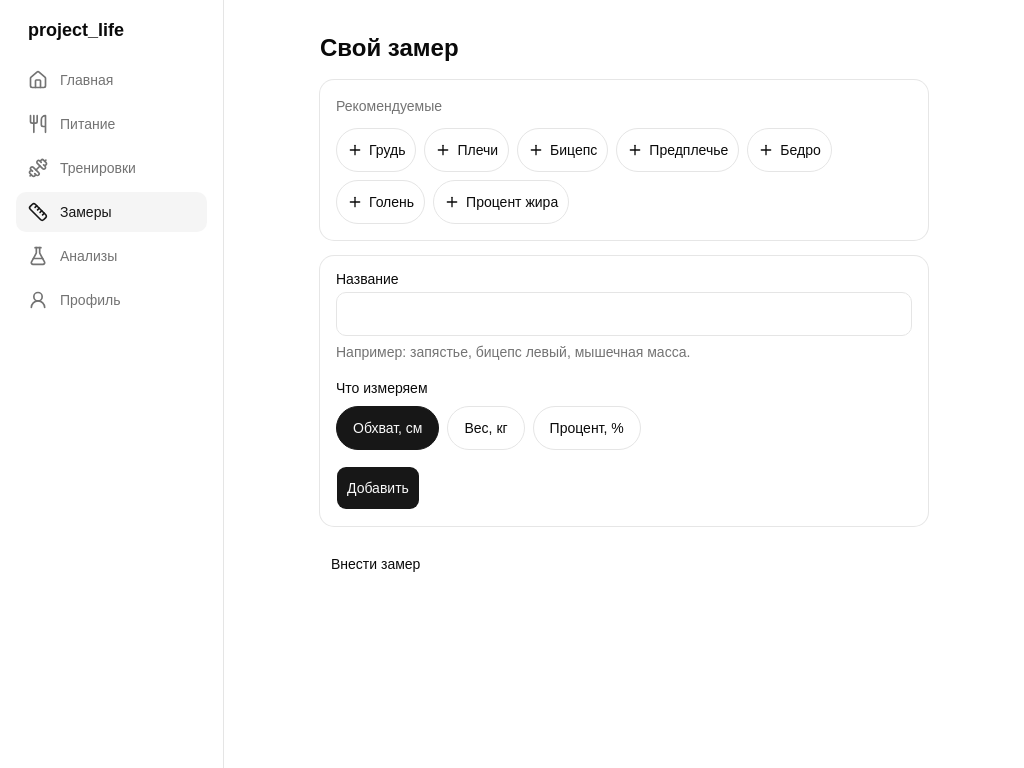
Test: экран «+»: рекомендуемые замеры › добавляет вид одним касанием и остаётся на экране
Click the button with aria-label "Добавить: Бицепс".
click(563, 150)  # box [517, 128, 608, 172]
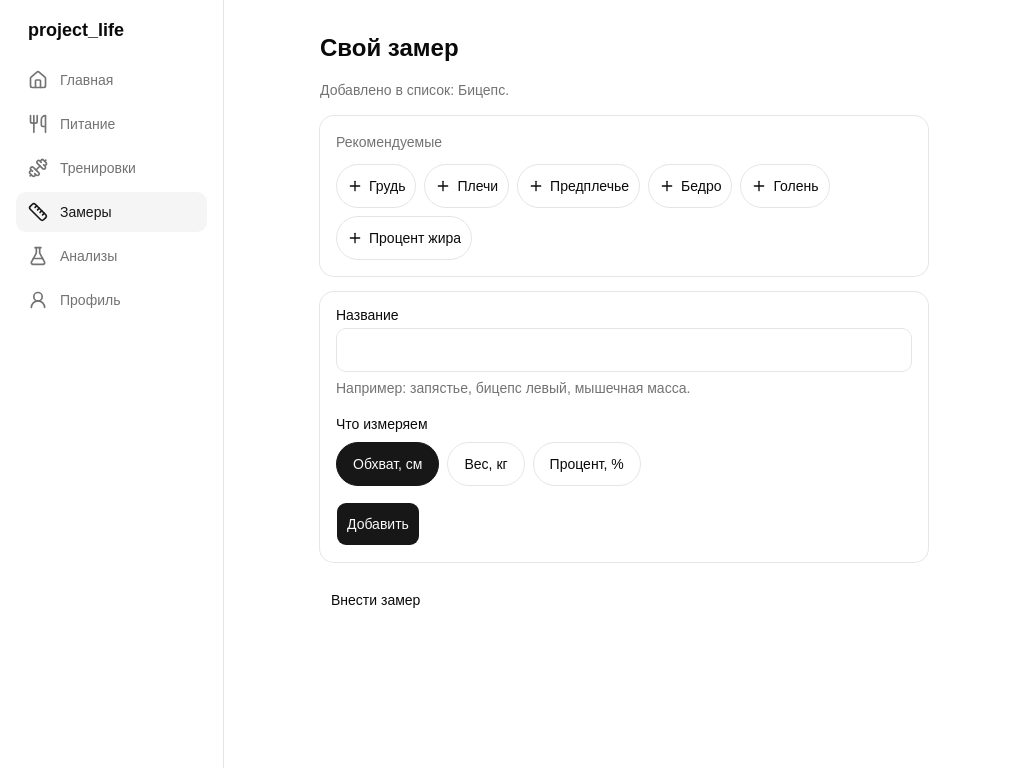
Check: the text "Бицепс" is not shown
Check: the message reads "Добавлено в список: Бицепс.", box [320, 82, 509, 98]
